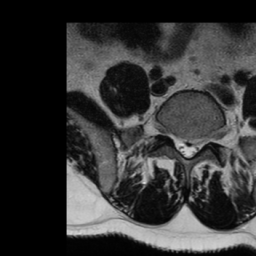CCS_severe_stenosis: (183, 130, 190, 164)
LFS_normal: (199, 126, 209, 152)
LLS_normal: (190, 131, 199, 159)
RFS_normal: (166, 122, 174, 147)
RLS_normal: (174, 129, 183, 156)
